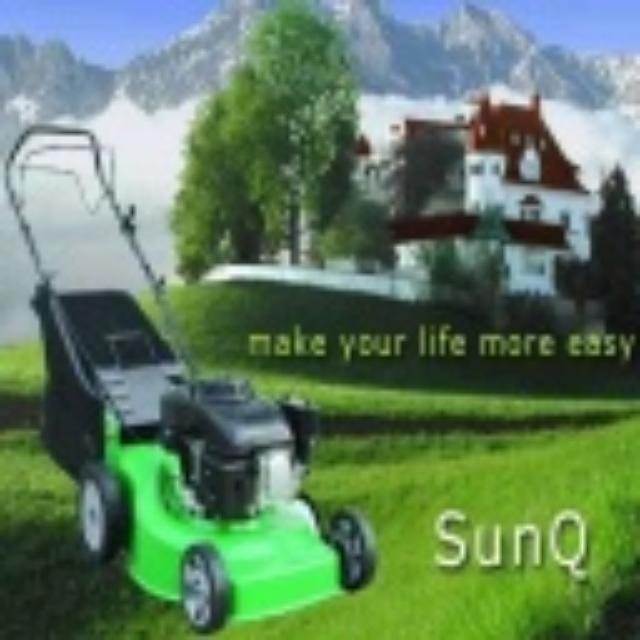Rotary-Mower: (0, 115, 380, 630)
